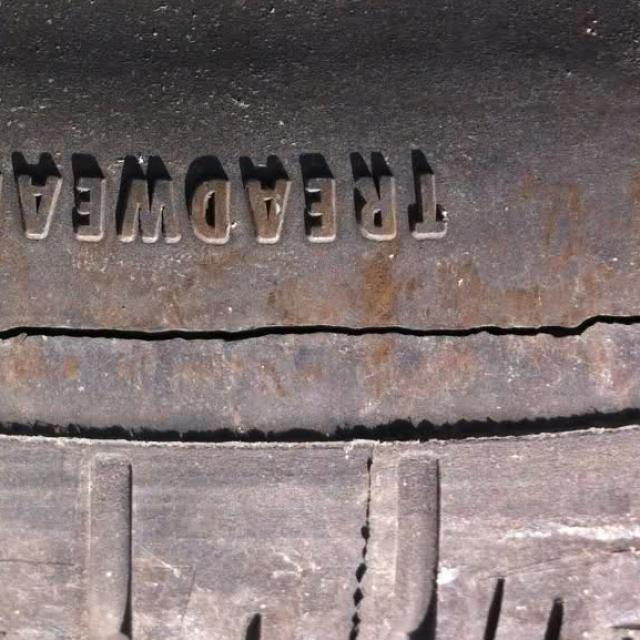Cracks: (0, 302, 639, 357)
Non-defective: (0, 0, 639, 250)
